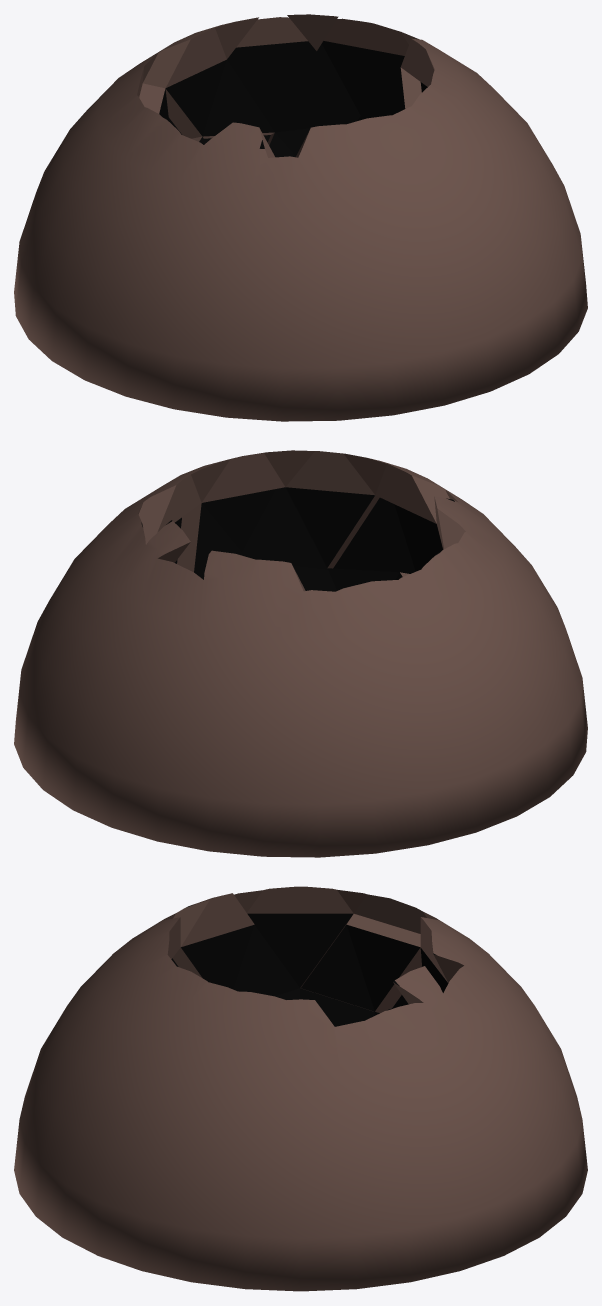
File: BrokenPipe.fbx
3 renders of one model, top to bottom at view 1: azimuth 30°, elevation 25°; view 2: azimuth 150°, elevation 25°; view 3: azimuth 270°, elevation 25°, orthographic.
Visible parts, largest first — view 1: Sphere; view 2: Sphere; view 3: Sphere.
Part boxes in pixels (left/top/right/bottom): Sphere: left=14, top=14, right=587, bottom=421; Sphere: left=14, top=450, right=587, bottom=857; Sphere: left=14, top=886, right=587, bottom=1291.
Bounding box in the file's own units: 200 × 88.45 × 200.
